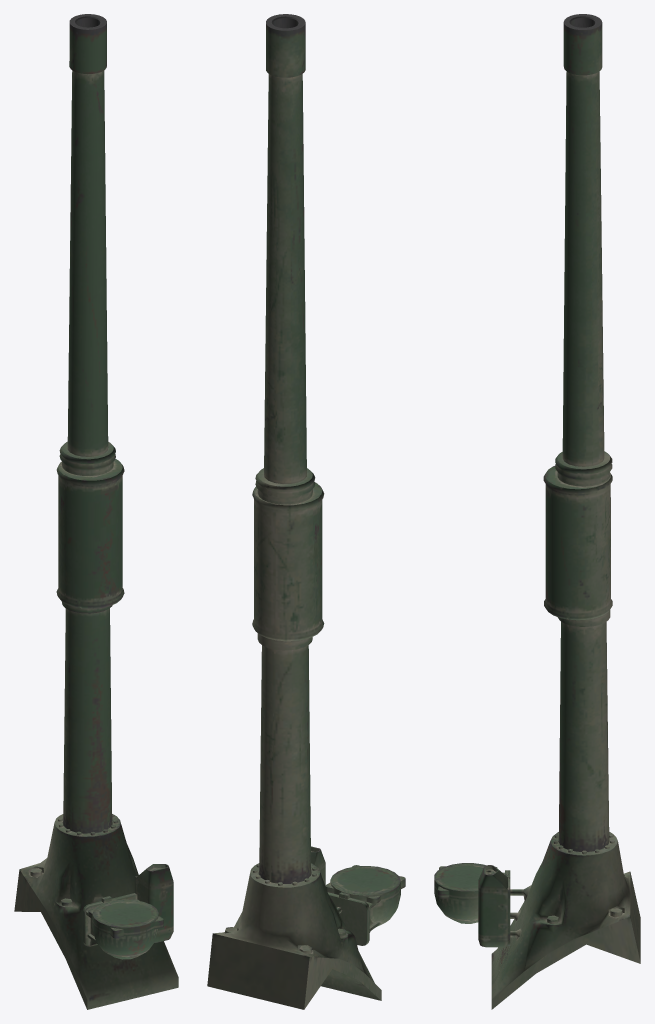
The model's file is Gun_01.glb.
3 views of the same model, side by side, from view 1: azimuth 30°, elevation 25°; view 2: azimuth 150°, elevation 25°; view 3: azimuth 270°, elevation 25° (orthographic). The views are drawn at different scales.
Visible parts, largest first — view 1: set_0_group_0; view 2: set_0_group_0; view 3: set_0_group_0.
Part boxes in pixels (box(x1,y1,x2,y2)): set_0_group_0: box(14, 14, 178, 1009); set_0_group_0: box(207, 14, 405, 1009); set_0_group_0: box(434, 14, 640, 1009).
Size of the model in its own units: 0.4666 by 4.51 by 0.8758.
1 material, 1 textured.
